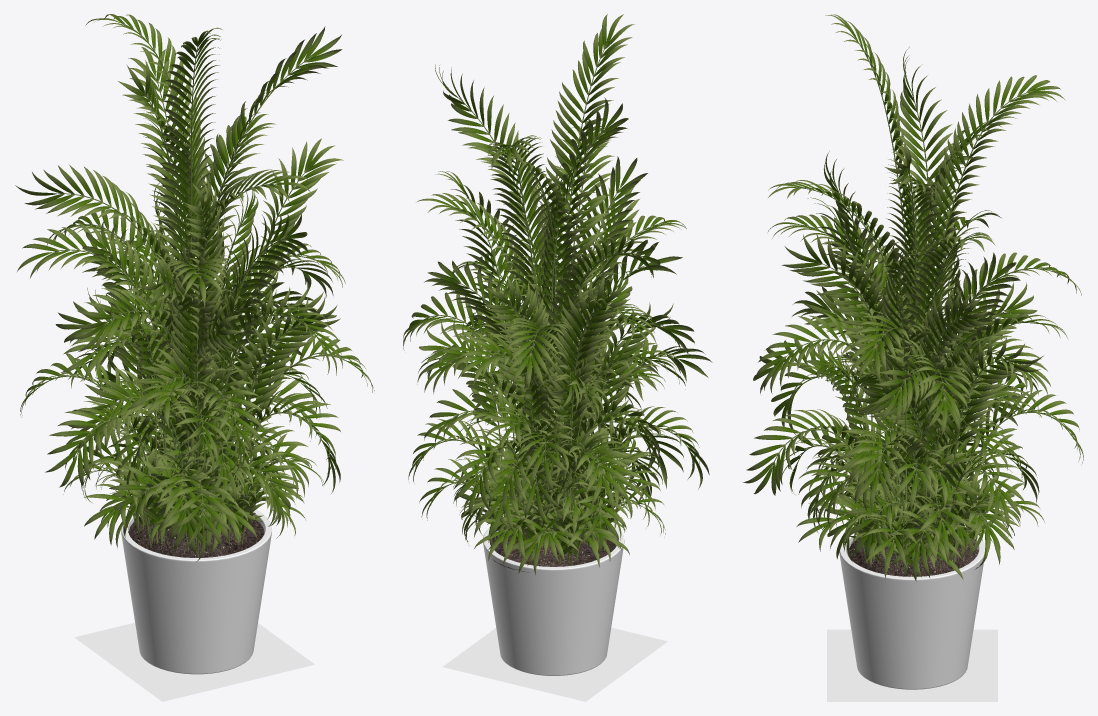
The model's file is potted_plant___poly_foliage_game_ready.glb.
3 renders of one model, left to right at view 1: azimuth 30°, elevation 25°; view 2: azimuth 150°, elevation 25°; view 3: azimuth 270°, elevation 25°, orthographic. The views are drawn at different scales.
Parts seen in each view (by area): view 1: plant_93_02_2, Object_13, Plane_0, plant_93_03.001_1; view 2: plant_93_02_2, Object_13, Plane_0, plant_93_03.001_1; view 3: plant_93_02_2, Object_13, Plane_0, plant_93_03.001_1.
Part boxes in pixels (box(x1,y1,x2,y2)): plant_93_02_2: box(15, 14, 374, 561); Object_13: box(121, 510, 271, 674); Plane_0: box(74, 622, 314, 701); plant_93_03.001_1: box(128, 516, 264, 557); plant_93_02_2: box(403, 14, 712, 574); Object_13: box(483, 522, 624, 675); Plane_0: box(443, 627, 667, 701); plant_93_03.001_1: box(490, 525, 616, 572); plant_93_02_2: box(743, 14, 1083, 581); Object_13: box(839, 526, 985, 689); Plane_0: box(827, 629, 997, 701); plant_93_03.001_1: box(849, 536, 981, 576).
Size of the model in its own units: 1.08 by 2.16 by 1.05.
5 materials, 3 textured.
